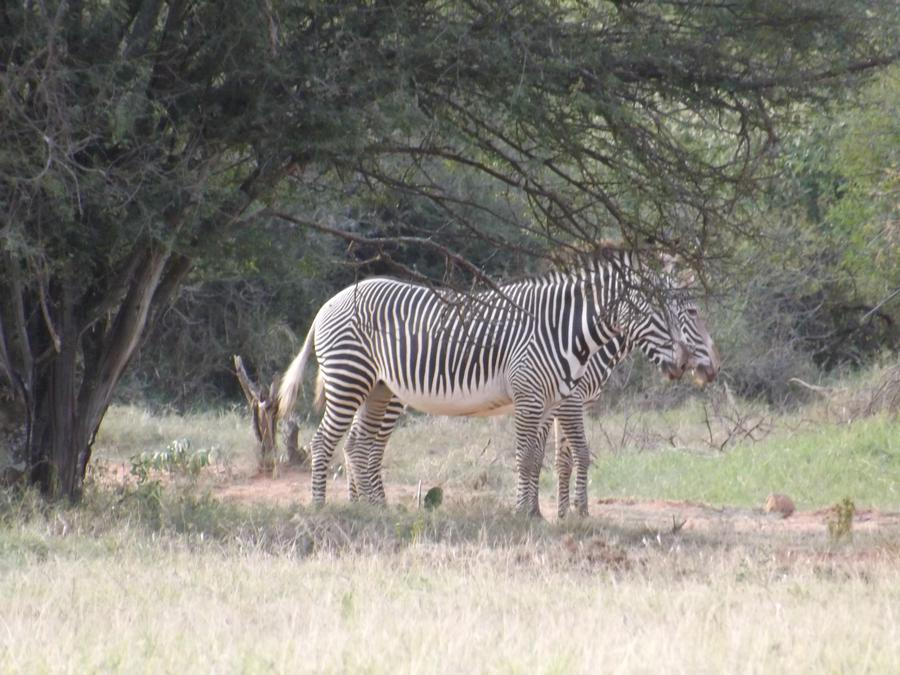zebra_grevys: (301, 256, 562, 403)
